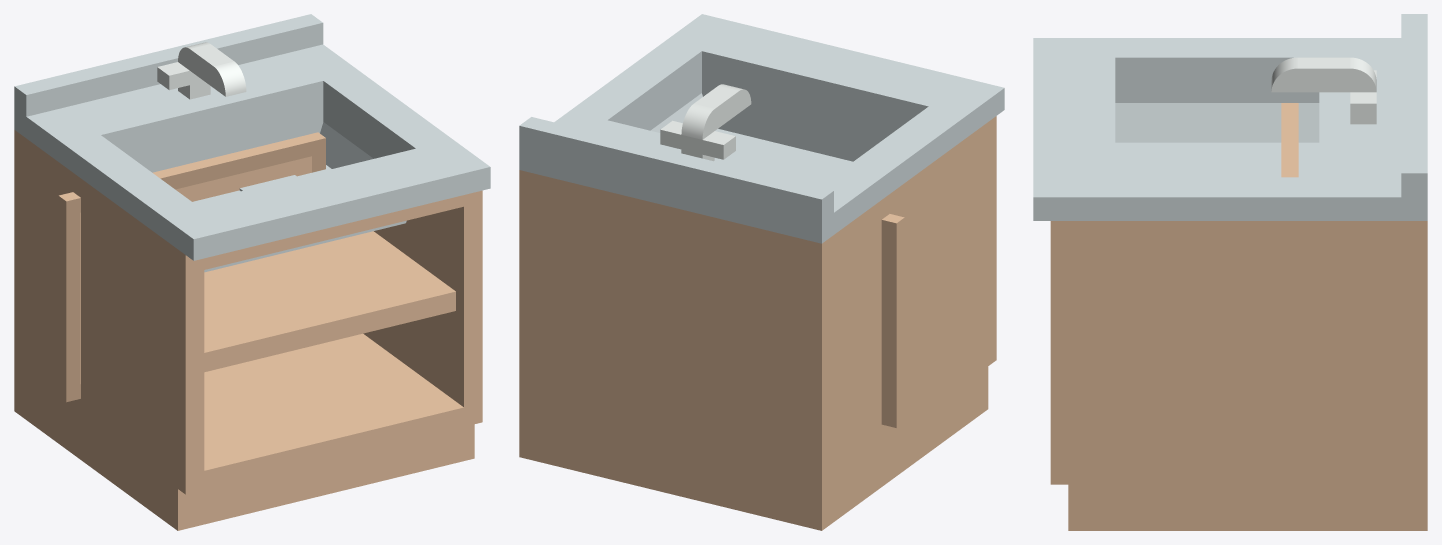
Rendered from kitchenSink.glb.
The picture shows the model from 3 angles, left to right: view 1: azimuth 30°, elevation 25°; view 2: azimuth 150°, elevation 25°; view 3: azimuth 270°, elevation 25°; orthographic projection. The views are drawn at different scales.
Visible parts, largest first — view 1: kitchenSink, kitchenSink.001; view 2: kitchenSink, kitchenSink.001; view 3: kitchenSink, kitchenSink.001.
Part boxes in pixels (<box>): kitchenSink: <box>14,14,490,530</box>; kitchenSink.001: <box>58,132,325,402</box>; kitchenSink: <box>519,14,1004,530</box>; kitchenSink.001: <box>881,214,904,427</box>; kitchenSink: <box>1033,14,1427,530</box>; kitchenSink.001: <box>1281,103,1298,177</box>.
Bounding box in the file's own units: 1.31 × 1.42 × 1.31.
